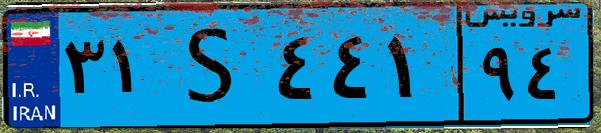1: (385, 28, 445, 110), (110, 28, 158, 98)
3: (57, 26, 110, 100)
4: (270, 28, 330, 110), (330, 28, 385, 110), (525, 38, 570, 115)
9: (475, 38, 525, 113)
S: (158, 12, 270, 120)
